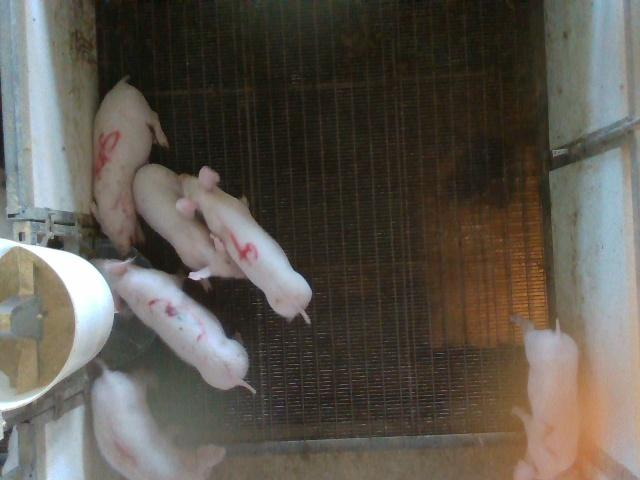pig-1: (91, 366, 186, 479)
pig-2: (512, 315, 578, 478)
pig-3: (91, 259, 255, 392)
pig-4: (176, 168, 311, 323)
pig-5: (91, 78, 168, 256)
